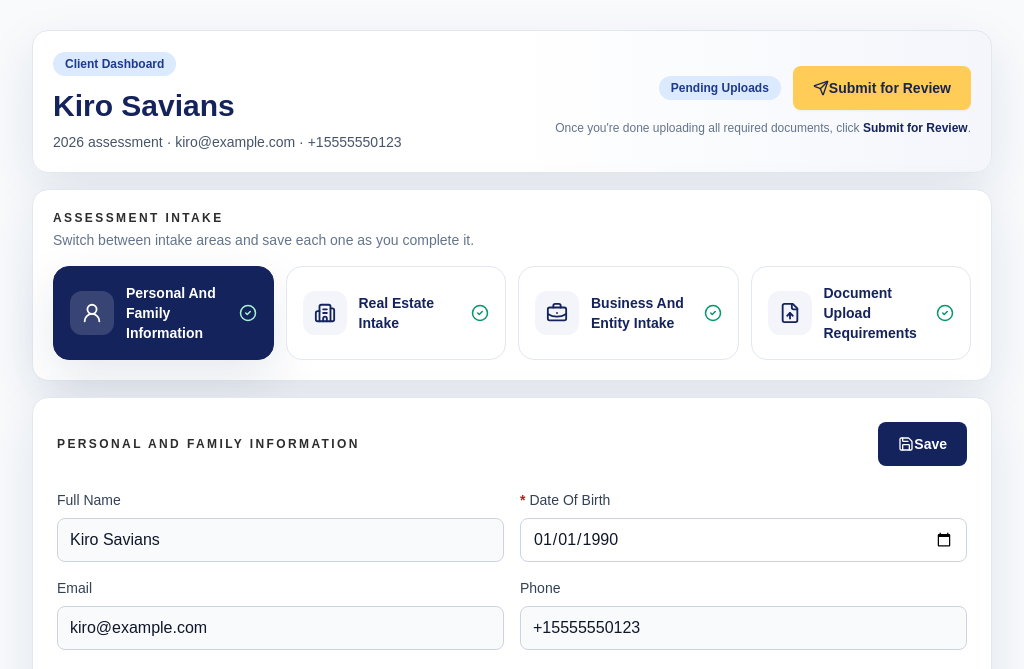
PortalDashboardClient › uses fixed dropdowns while preserving legacy values
Click the button "Real Estate Intake": (396, 313) [286,266,506,360]
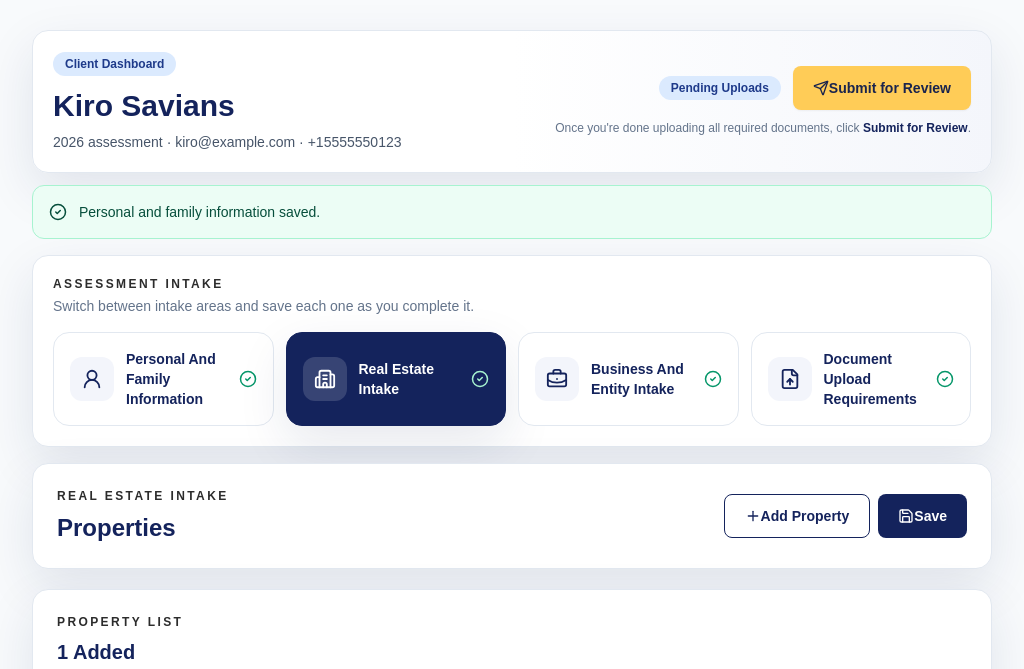
Click the button "Business And Entity Intake": (628, 379) [518,332,738,426]
(page scrolled)
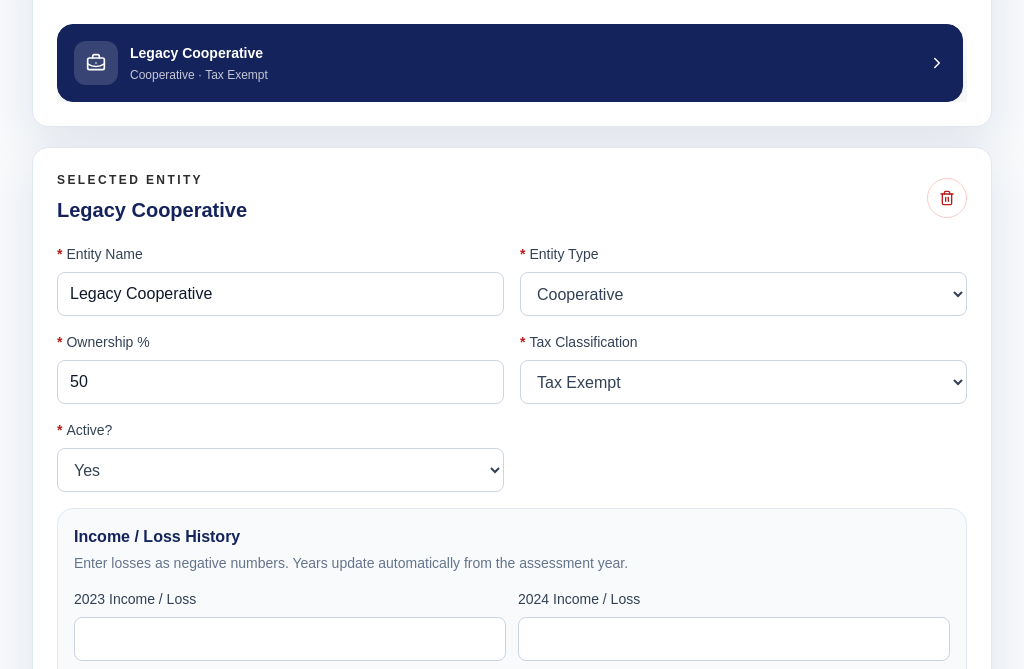
Check: the dropdown labelled "Entity Type" shows "Cooperative", box [520,272,967,316]
Check: the dropdown labelled "Tax Classification" shows "Tax Exempt", box [520,360,967,404]
